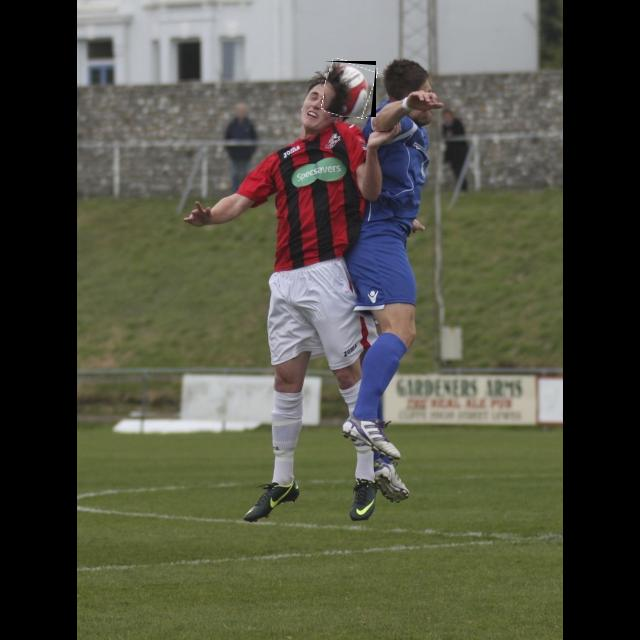Football: (324, 61, 376, 117)
